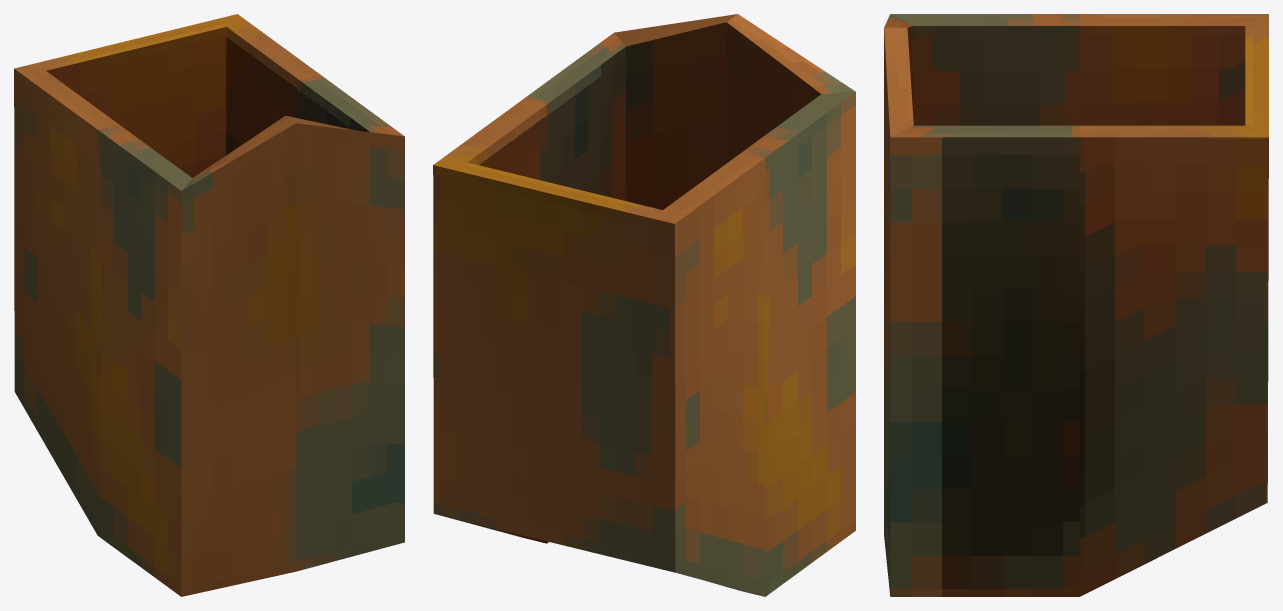
The model's file is rustedCopperGreavesR.glb.
3 views of the same model, side by side, from view 1: azimuth 30°, elevation 25°; view 2: azimuth 150°, elevation 25°; view 3: azimuth 270°, elevation 25° (orthographic). The views are drawn at different scales.
Parts seen in each view (by area): view 1: rusted copper greaves R; view 2: rusted copper greaves R; view 3: rusted copper greaves R.
Boxes of the visible parts, x1=… form: rusted copper greaves R: x1=14, y1=14, x2=404, y2=596; rusted copper greaves R: x1=433, y1=14, x2=855, y2=596; rusted copper greaves R: x1=884, y1=14, x2=1268, y2=596.
Size of the model in its own units: 0.1797 by 0.3446 by 0.2368.
1 material, 1 textured.
